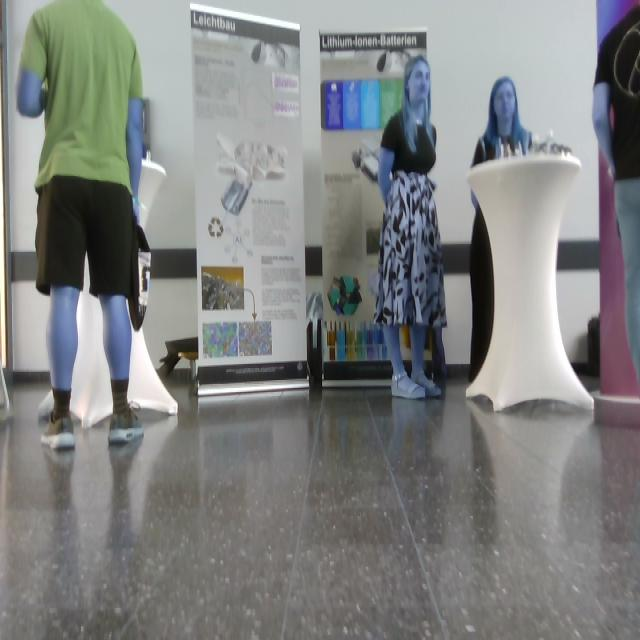light bulb: (126, 150, 179, 416), (221, 161, 253, 216), (17, 68, 48, 118), (352, 146, 379, 184), (377, 49, 411, 73)
person: (16, 1, 146, 450), (374, 54, 448, 400), (592, 5, 640, 396)
pillar: (465, 150, 596, 413)
tiled floor: (1, 366, 639, 640)
